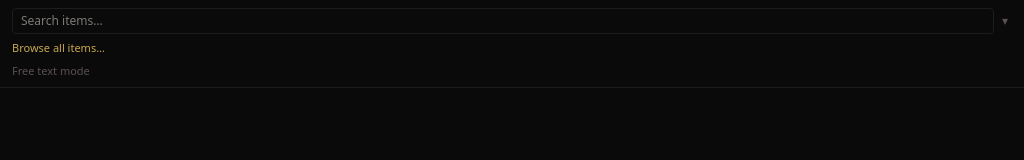
it: GearSlot › axe accessibility: zero violations with base item selected (AC4)
Type "Iron Helm" into the dropdown with placeholder "Search items…" at [503, 21], box top-left (12, 8), bottom-right (994, 34)
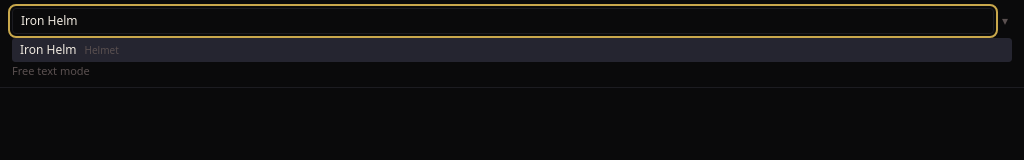
Check: the text "Iron Helm" is shown
Click the text "Iron Helm" at [48, 50], box top-left (20, 41), bottom-right (77, 58)
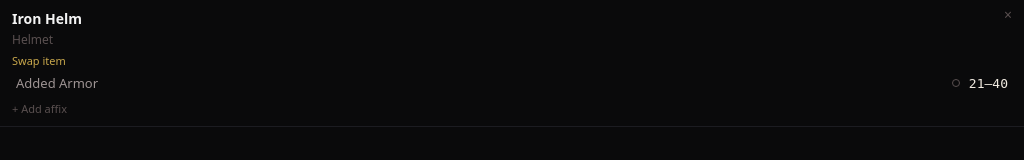
Check: the slider named "Added Armor tier" is shown, box top-left (952, 76), bottom-right (1008, 90)
